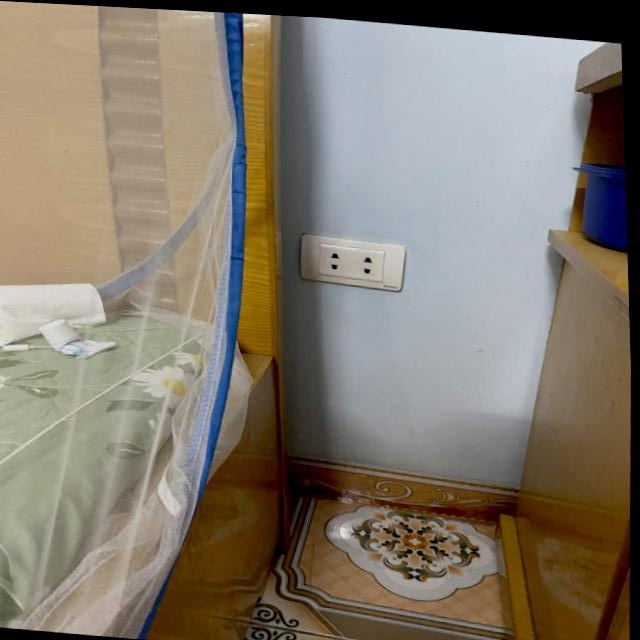outlet: (297, 235, 406, 294)
